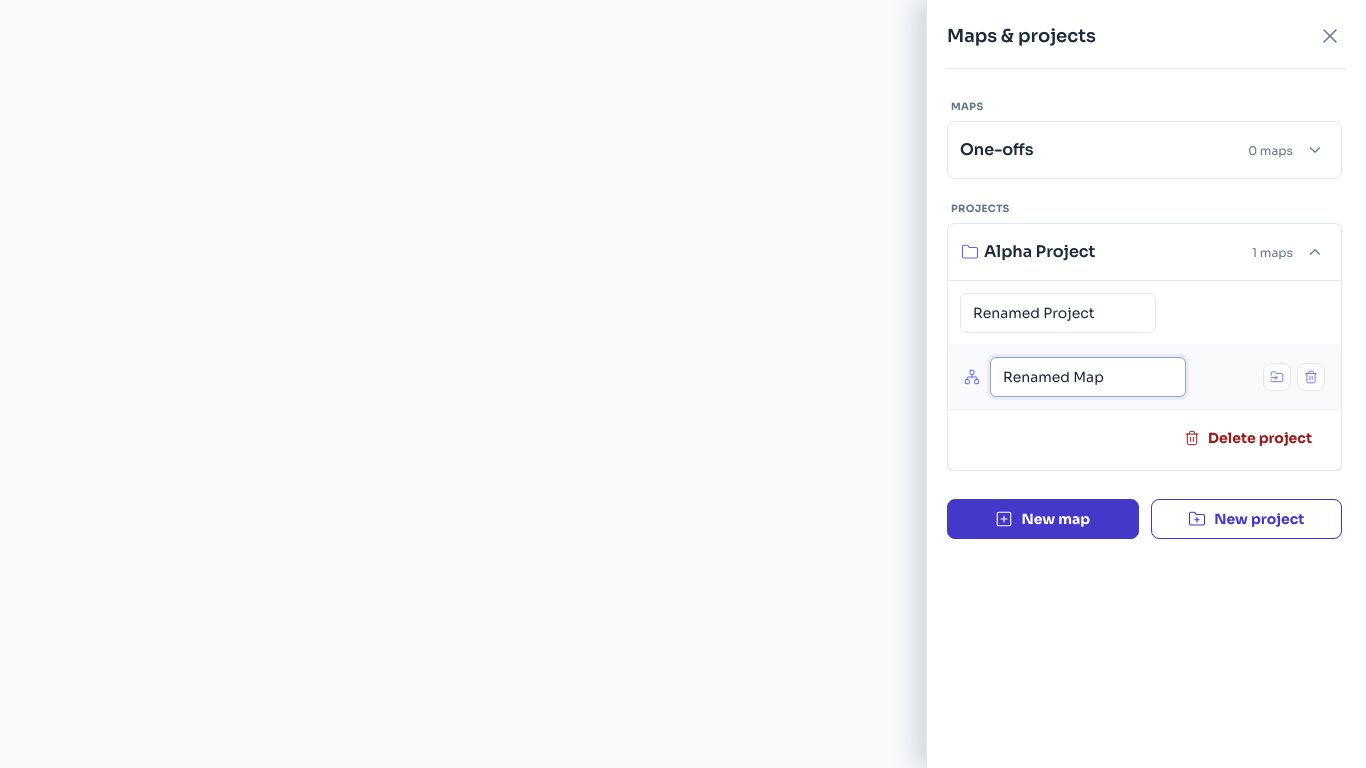
ProjectsModal › uses shared button, input, and select primitives for standard project controls
Click the button named "Move map".
click(1277, 377)  # box [1263,363,1291,391]
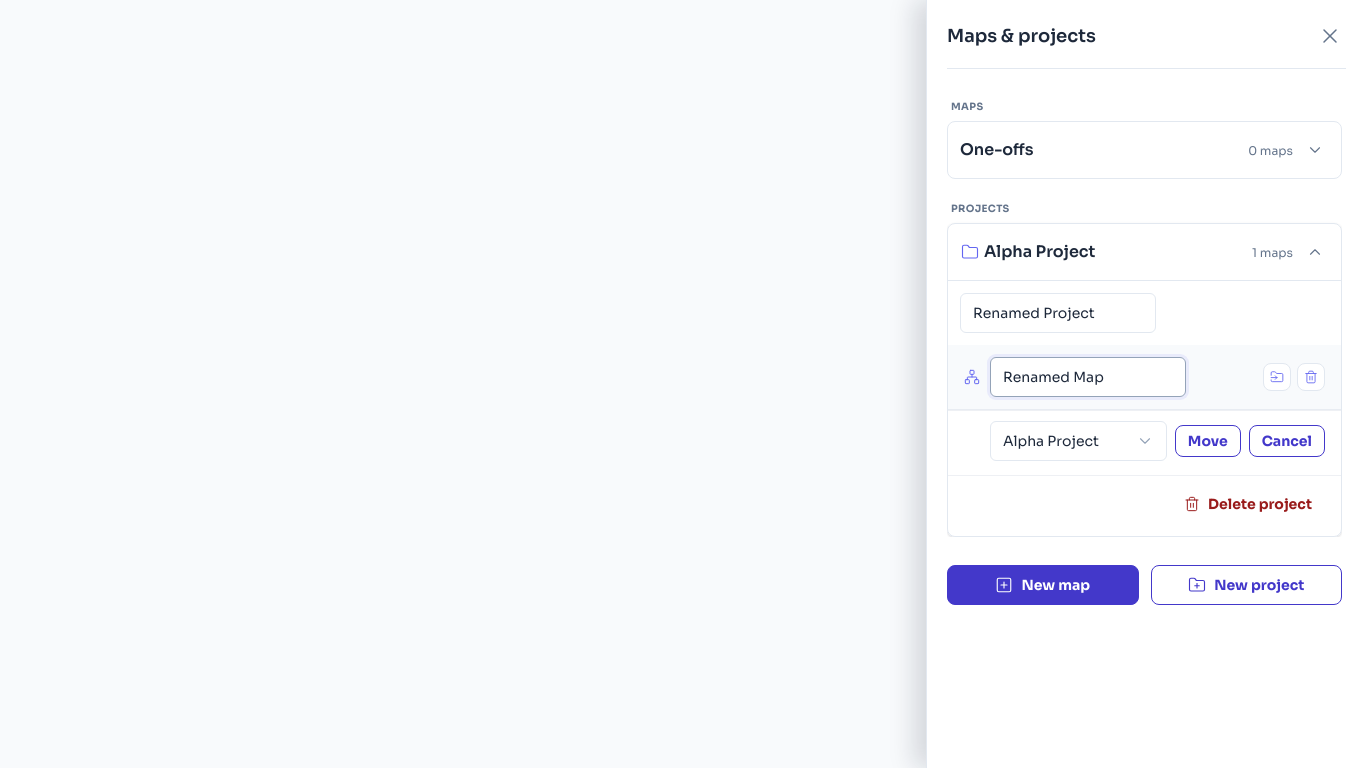
Expected: the dropdown named "Move Alpha Map to" shows "Alpha Project", [991,422,1166,460]
